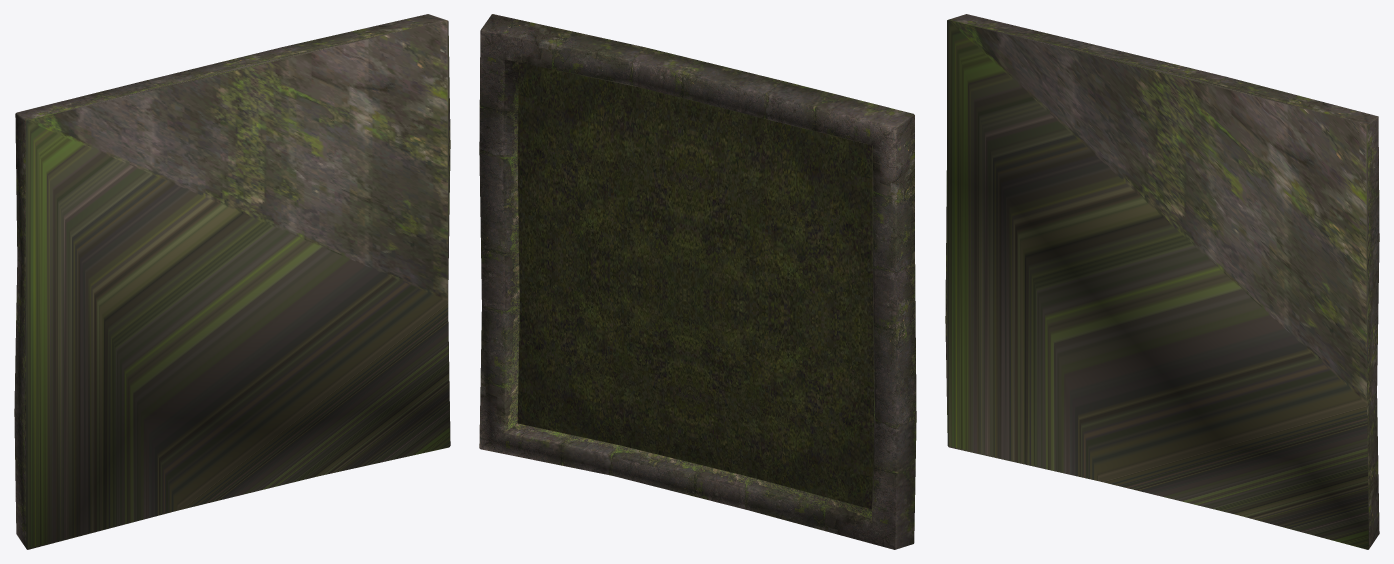
The model's file is yuanpu.FBX.
3 views of the same model, side by side, from view 1: azimuth 30°, elevation 25°; view 2: azimuth 150°, elevation 25°; view 3: azimuth 330°, elevation 25° (orthographic).
Parts seen in each view (by area): view 1: Mesh_0325; view 2: Mesh_0325; view 3: Mesh_0325.
Boxes of the visible parts, <box> form: Mesh_0325: <box>14,14,450,549</box>; Mesh_0325: <box>479,14,916,549</box>; Mesh_0325: <box>945,14,1379,549</box>.
Size of the model in its own units: 9.76 by 9.43 by 0.7044.
1 material, 1 textured.
